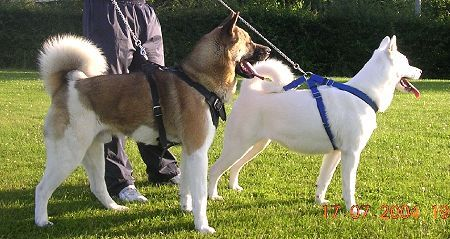dog: (33, 9, 276, 232), (204, 35, 424, 219)
